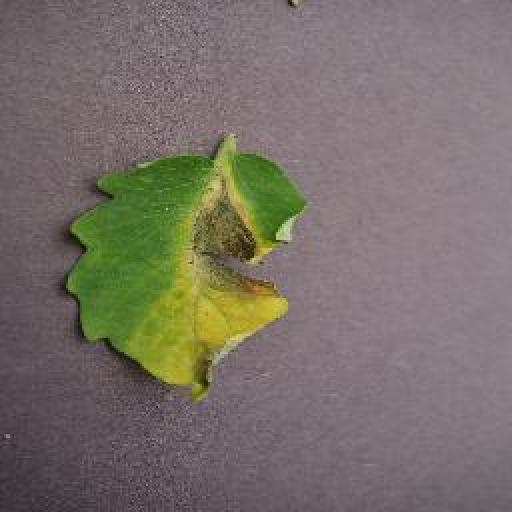Late Blight: (60, 151, 308, 400)
